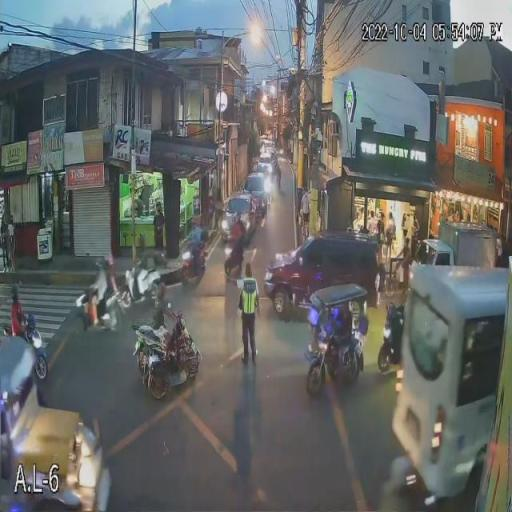helmet: (8, 288, 24, 305), (102, 254, 114, 266), (92, 258, 102, 270)
motorcycle: (303, 339, 376, 397), (75, 270, 132, 332), (12, 308, 50, 380), (118, 262, 170, 310), (376, 302, 406, 373), (179, 244, 206, 289), (222, 244, 246, 280)
rider: (86, 252, 105, 326), (100, 256, 119, 315), (132, 236, 150, 294), (183, 222, 206, 264), (10, 290, 28, 341), (229, 213, 248, 254)
